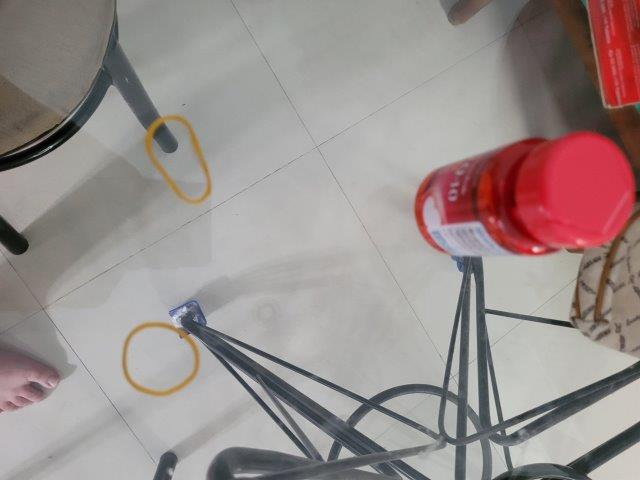karet: (148, 115, 212, 207), (125, 323, 201, 397)
